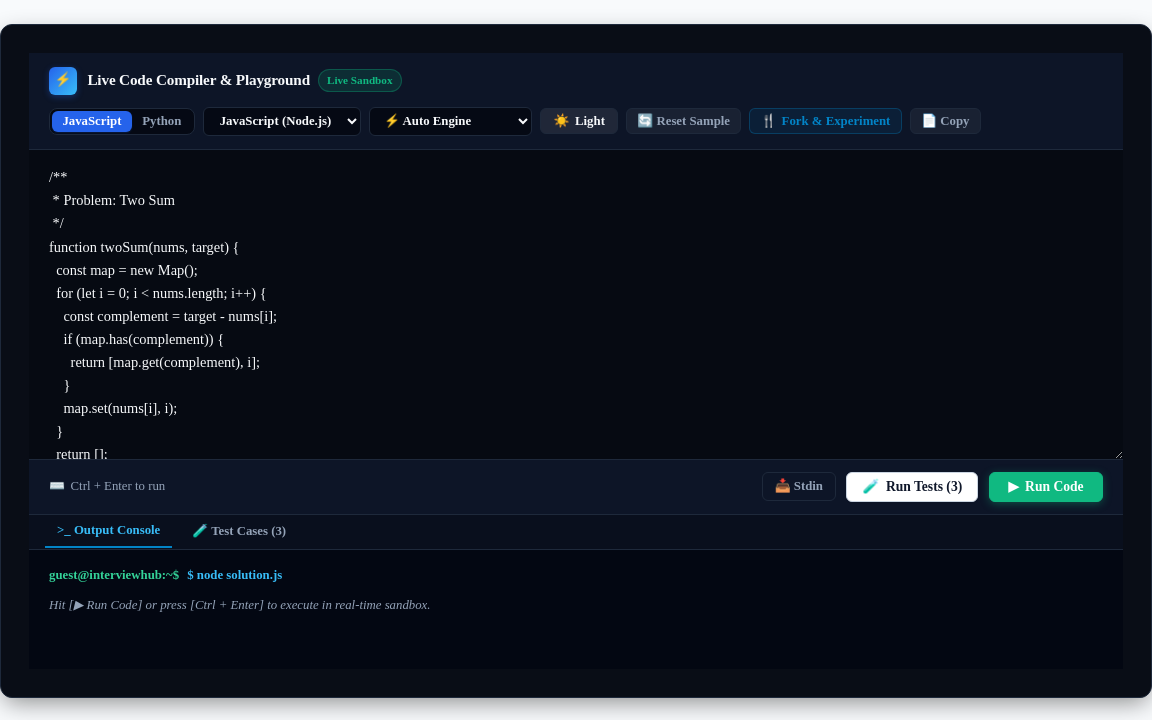
it: Replit-Style Code Playground & Test Runner › renders interactive terminal drawer with CLI prompt and performance badges
Note: Run Code
Click the button "▶ Run Code" at (1046, 487), box top-left (989, 472), bottom-right (1103, 502)
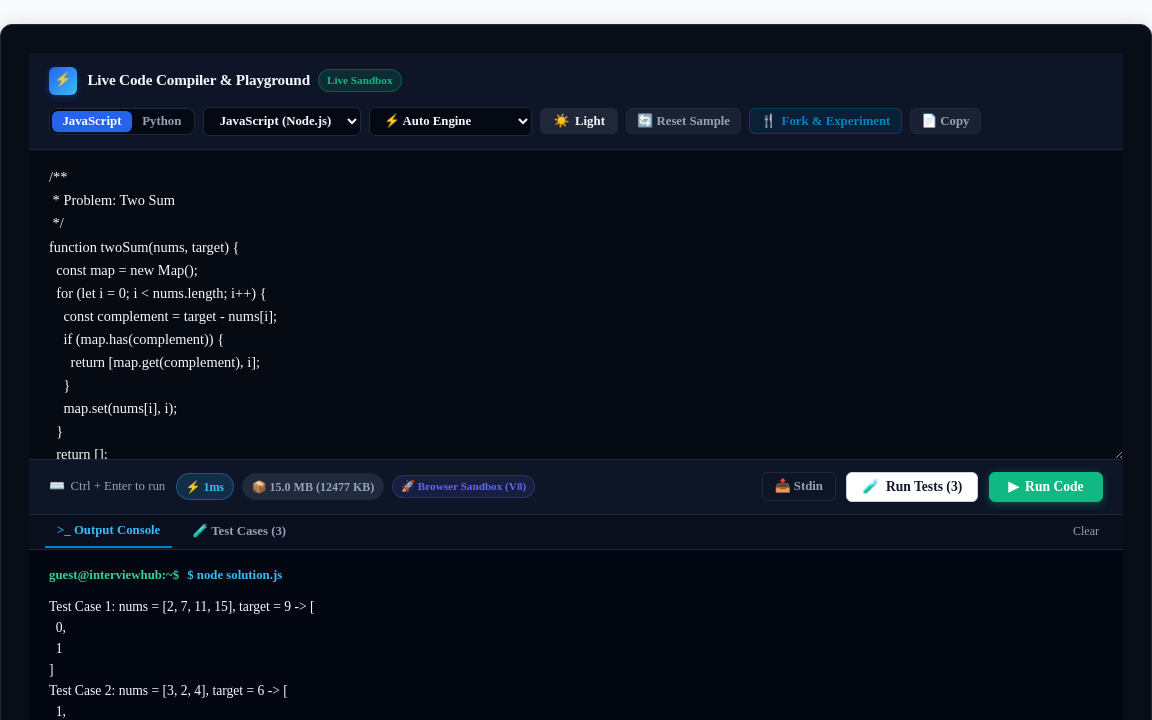
Expected: the text "$ node solution.js" is shown, top-left (187, 566), bottom-right (282, 585)
Expected: the text "⚡ 1ms" is shown, top-left (176, 473), bottom-right (234, 500)
